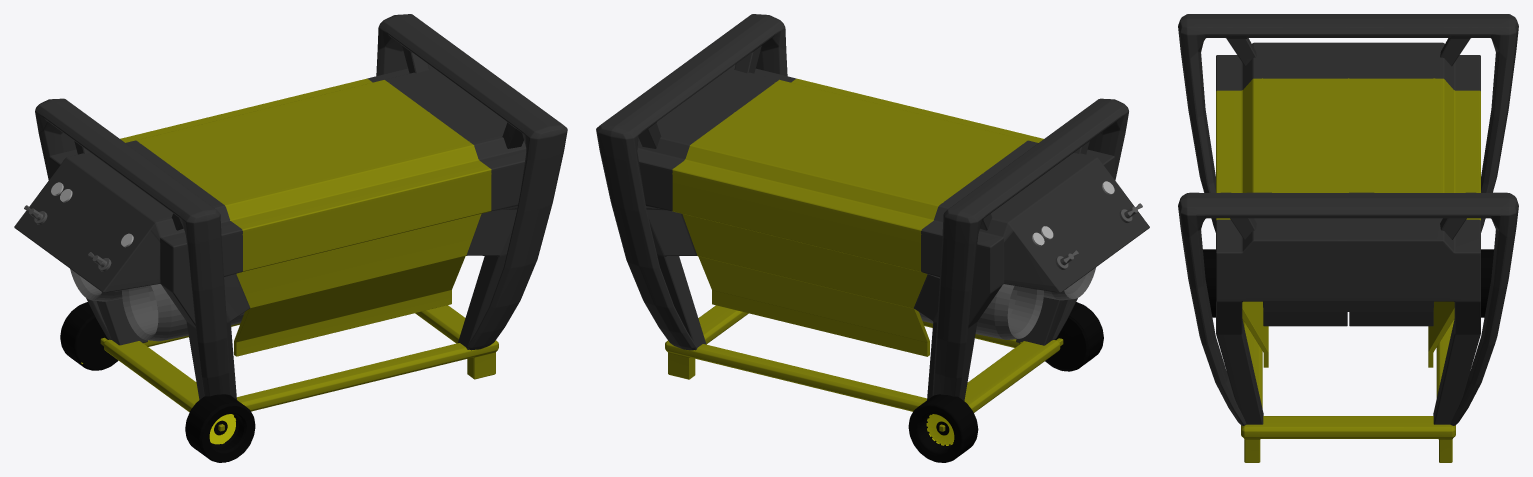
The model's file is gen.fbx.
3 views of the same model, side by side, from view 1: azimuth 30°, elevation 25°; view 2: azimuth 150°, elevation 25°; view 3: azimuth 270°, elevation 25° (orthographic). The views are drawn at different scales.
Visible parts, largest first — view 1: Gen; view 2: Gen; view 3: Gen.
Part boxes in pixels (bbox=[...]): Gen: bbox=[14, 14, 567, 462]; Gen: bbox=[596, 14, 1149, 462]; Gen: bbox=[1178, 14, 1518, 462].
Size of the model in its own units: 15.48 by 8.99 by 9.9.
